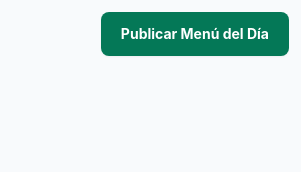
PublishMenuButton › shows error message if onPublish throws
Click the button "Publicar Menú del Día": (195, 34) [101, 12, 289, 56]
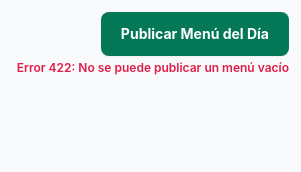
Check: the text with test id "publish-error" reads "Error 422: No se puede publicar un menú vacío", box [17, 60, 289, 75]
